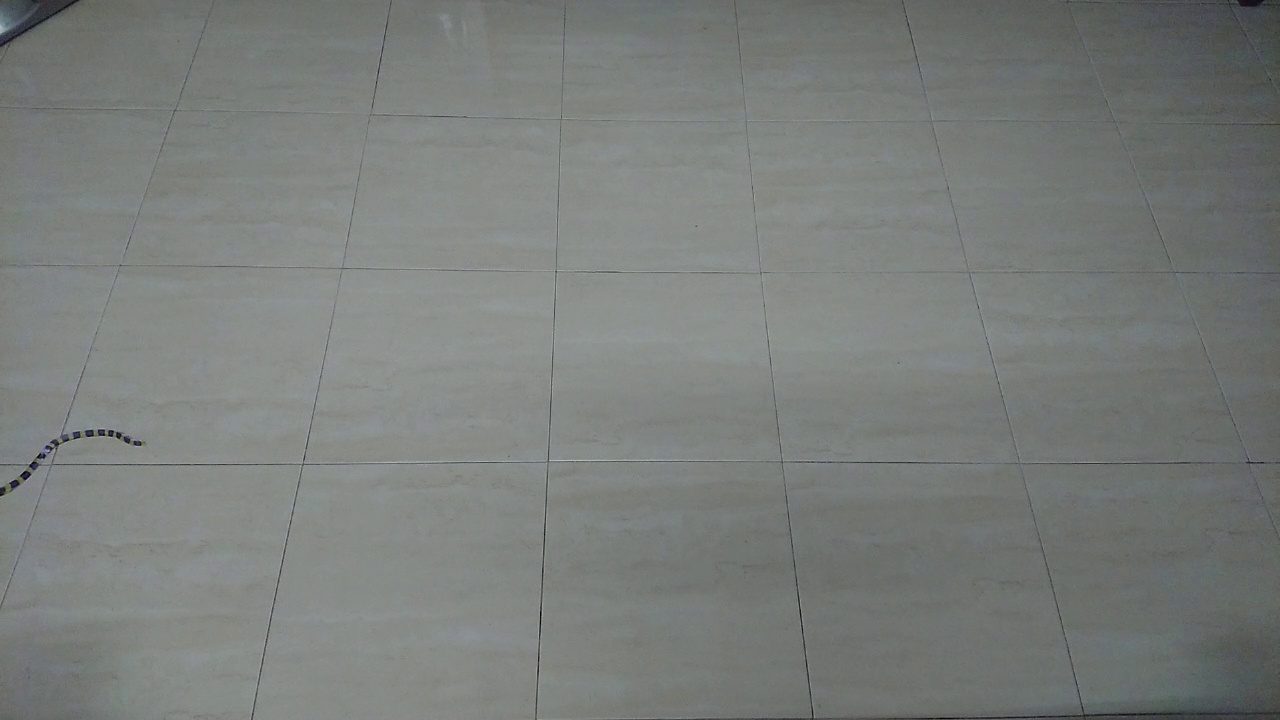snake: (1, 418, 155, 509)
